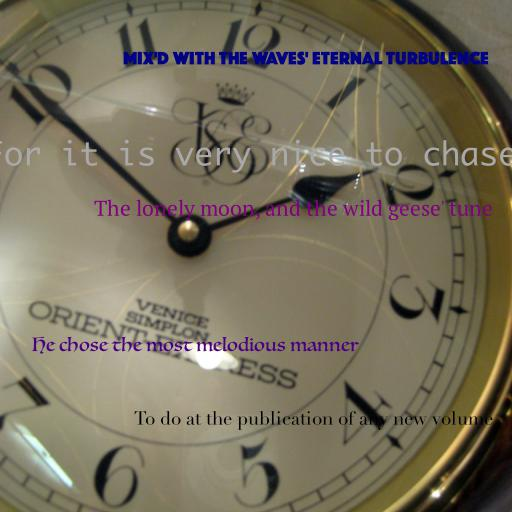Didot: (133, 410, 493, 430)
Luminari: (32, 336, 358, 354)
Monaco: (0, 139, 512, 173)
PT Serif: (93, 199, 493, 221)
Phosphate: (123, 51, 489, 65)
